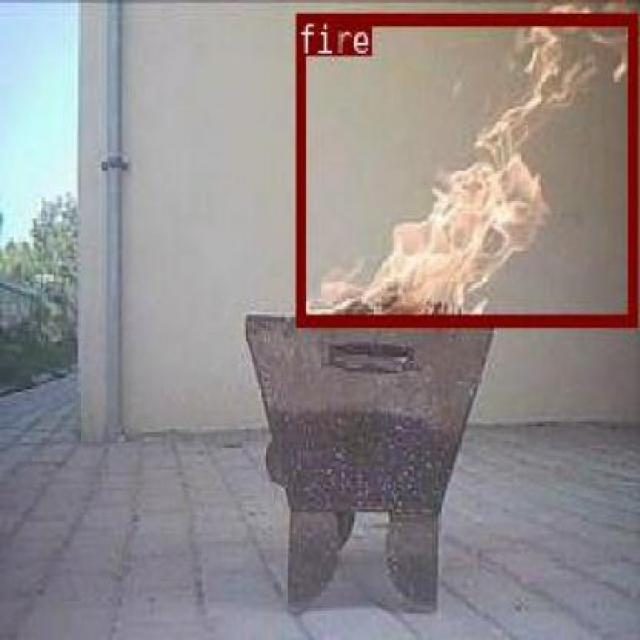fire: (294, 10, 634, 324)
